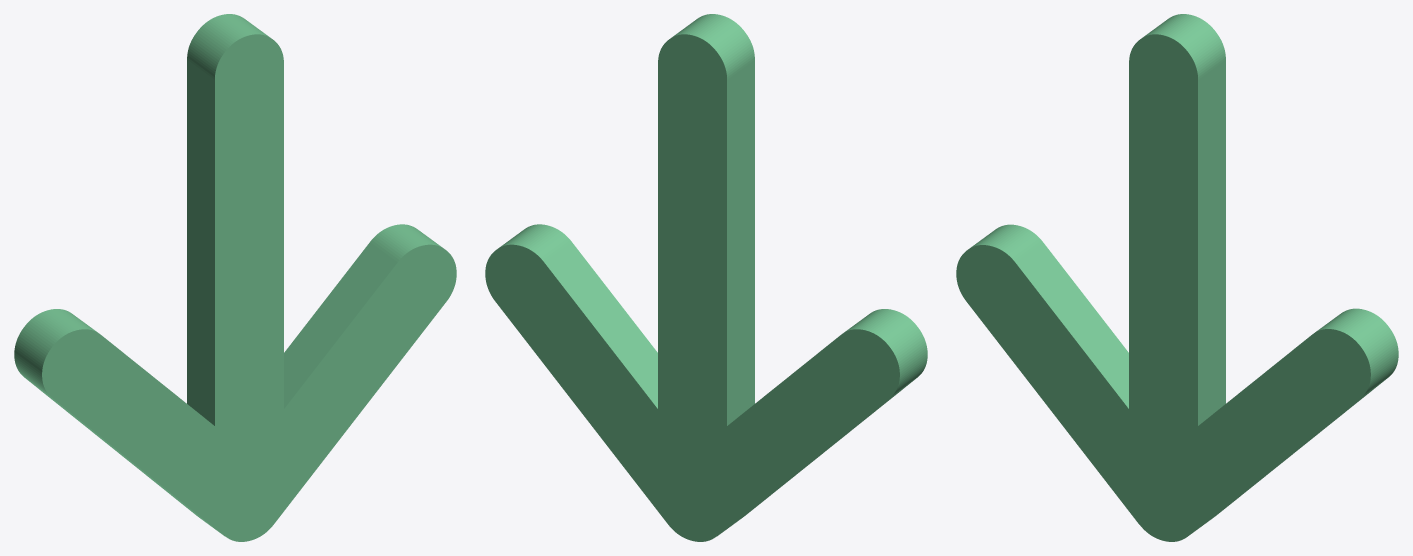
Rendered from destobj.fbx.
3 renders of one model, left to right at view 1: azimuth 30°, elevation 25°; view 2: azimuth 150°, elevation 25°; view 3: azimuth 330°, elevation 25°, orthographic.
Parts seen in each view (by area): view 1: Text; view 2: Text; view 3: Text.
Part boxes in pixels (x1,y1,x2,y2): Text: [14, 14, 456, 541]; Text: [485, 14, 927, 541]; Text: [956, 14, 1398, 541].
Bounding box in the file's own units: 881 × 1026 × 102.
